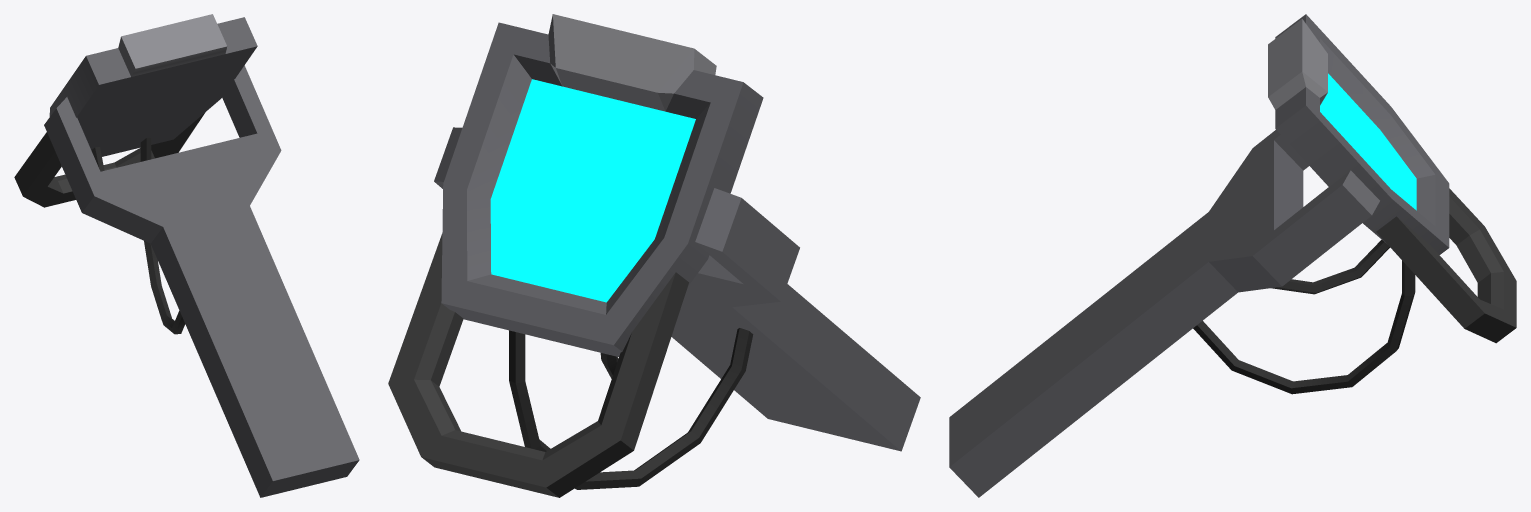
File: SM_Prop_Detail_Panel_01.fbx
The picture shows the model from 3 angles, left to right: view 1: azimuth 30°, elevation 25°; view 2: azimuth 150°, elevation 25°; view 3: azimuth 270°, elevation 25°; orthographic projection. The views are drawn at different scales.
Parts seen in each view (by area): view 1: SM_Prop_Detail_Panel_01_LOD0; view 2: SM_Prop_Detail_Panel_01_LOD0; view 3: SM_Prop_Detail_Panel_01_LOD0.
Part boxes in pixels (x1=…): SM_Prop_Detail_Panel_01_LOD0: x1=14, y1=14, x2=359, y2=497; SM_Prop_Detail_Panel_01_LOD0: x1=388, y1=14, x2=920, y2=497; SM_Prop_Detail_Panel_01_LOD0: x1=949, y1=14, x2=1516, y2=497.
Size of the model in its own units: 98.37 by 44.26 by 81.85.
Materials: 1 (1 with a texture image).
